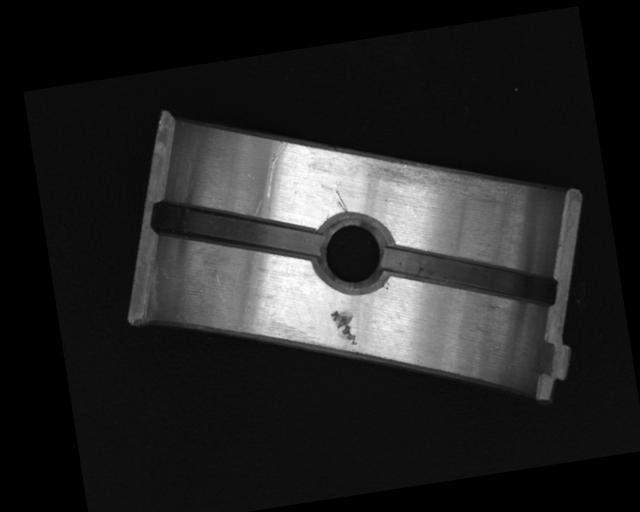bruise: (329, 307, 358, 349)
gap: (383, 223, 557, 329), (150, 178, 323, 279)
hole: (308, 206, 395, 294)
nick: (256, 139, 295, 200), (333, 187, 349, 215)
scratch: (366, 137, 514, 215)
